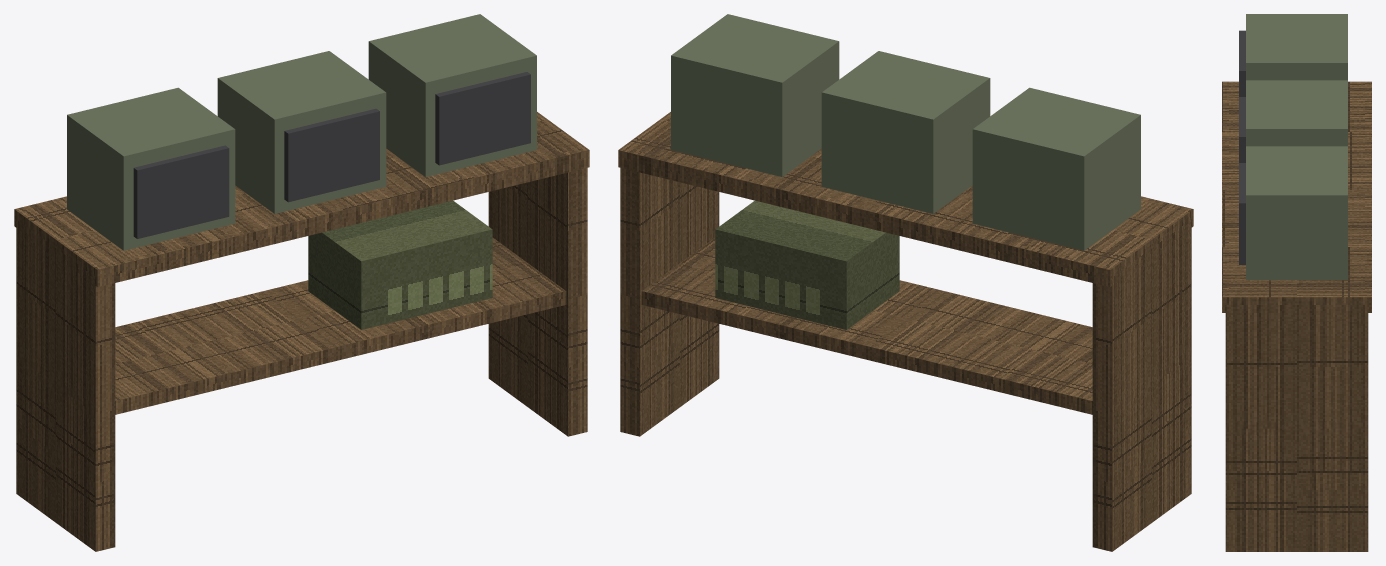
Rendered from fb_radio_shelf.glb.
The picture shows the model from 3 angles, left to right: view 1: azimuth 30°, elevation 25°; view 2: azimuth 150°, elevation 25°; view 3: azimuth 270°, elevation 25°; orthographic projection. The views are drawn at different scales.
Visible parts, largest first — view 1: fb_radio_shelf; view 2: fb_radio_shelf; view 3: fb_radio_shelf.
Boxes of the visible parts, box(x1,y1,x2,y2) form: fb_radio_shelf: box(14, 14, 589, 551); fb_radio_shelf: box(618, 14, 1193, 551); fb_radio_shelf: box(1222, 14, 1371, 551).
Size of what is drawn, in the model's own units: 1.5 by 1.1 by 0.44.
4 materials, 2 textured.
